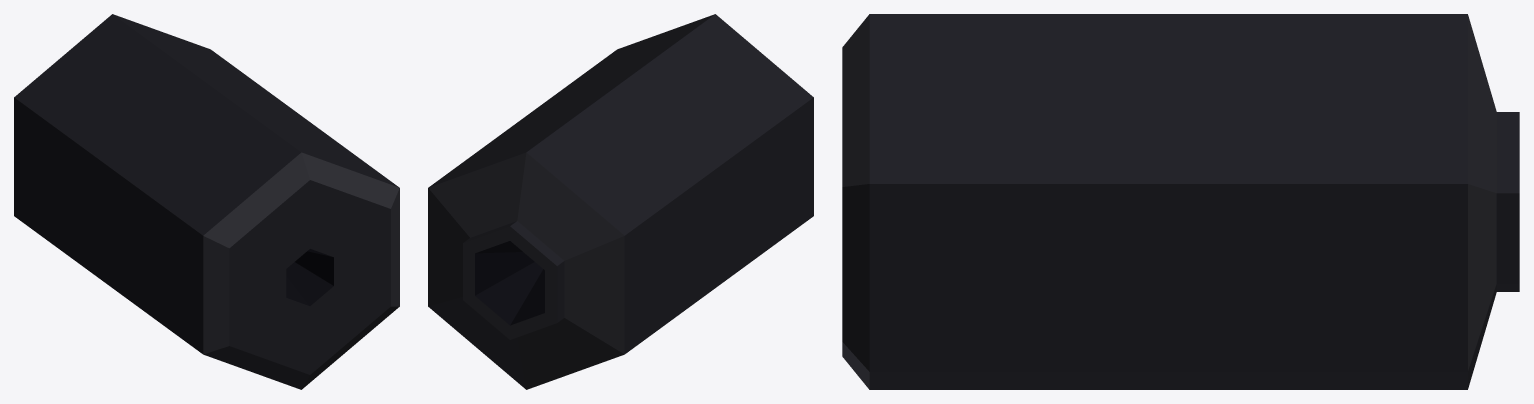
File: MW1_MuzzleDevice_9mm_02.fbx
3 renders of one model, left to right at view 1: azimuth 30°, elevation 25°; view 2: azimuth 150°, elevation 25°; view 3: azimuth 270°, elevation 25°, orthographic. The views are drawn at different scales.
Parts seen in each view (by area): view 1: MuzzleDevice_9mm_02; view 2: MuzzleDevice_9mm_02; view 3: MuzzleDevice_9mm_02.
Part boxes in pixels (x1,y1,x2,y2): MuzzleDevice_9mm_02: (14, 14, 399, 389); MuzzleDevice_9mm_02: (428, 14, 813, 389); MuzzleDevice_9mm_02: (842, 14, 1519, 389).
Size of the model in its own units: 3.22 by 3.71 by 6.07.
